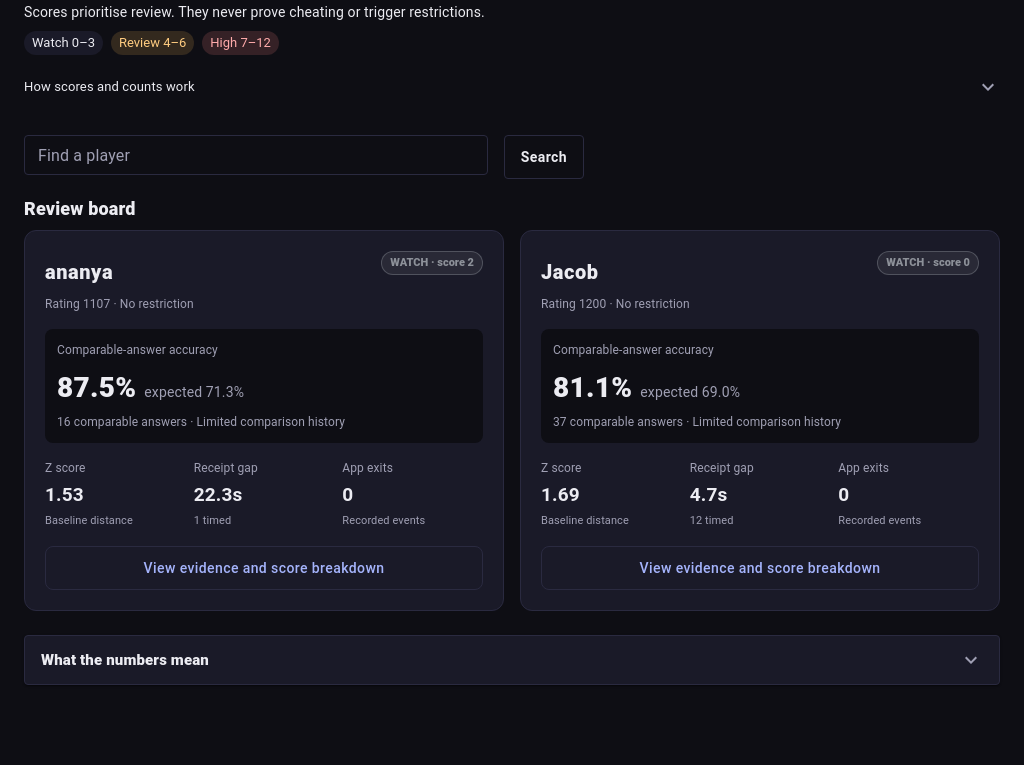
integrity panel with live-shaped data › definitions start collapsed and open one metric at a time
(page scrolled)
Click the button "What the numbers mean".
click(125, 660)  # box [41,648,983,672]
(page scrolled)
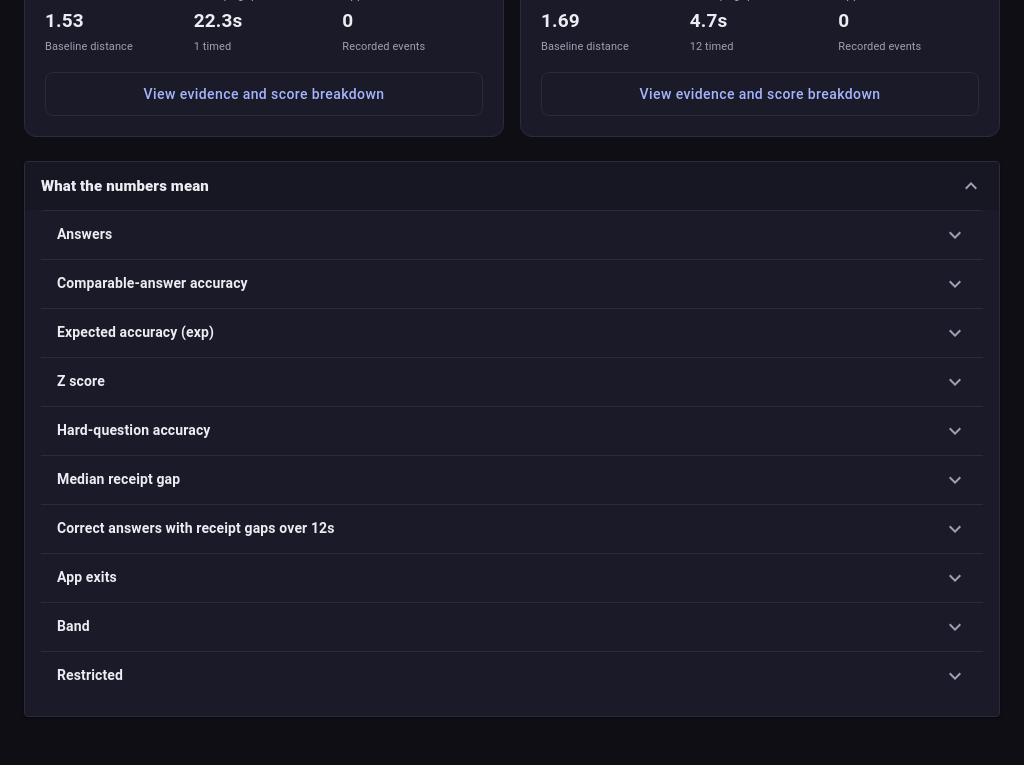
Click the button "Z score".
click(81, 381)  # box [57,370,967,394]
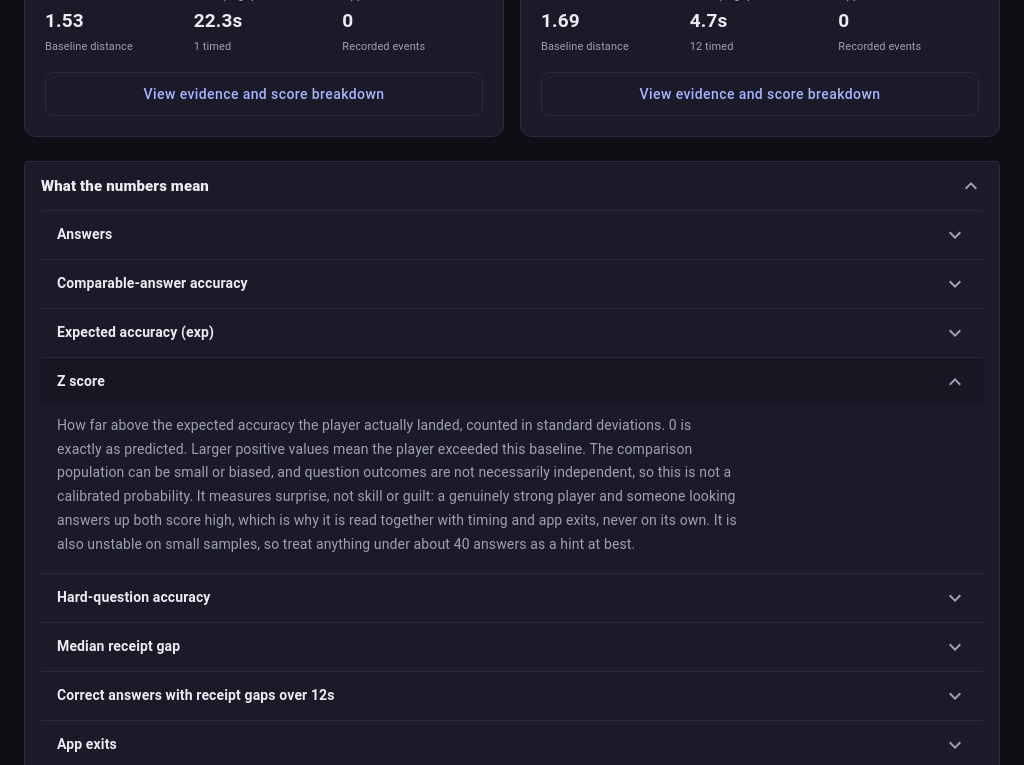
Now the button "Z score" is expanded, box [41,358,983,406]
